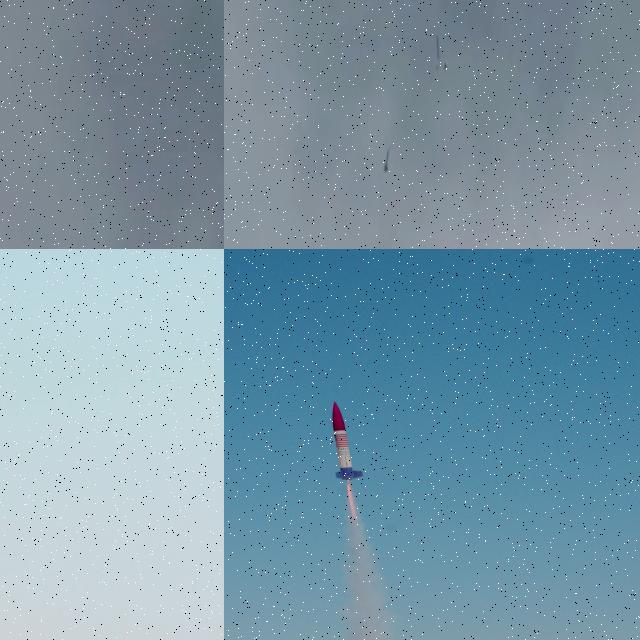Rocket: (332, 401, 364, 481), (383, 148, 390, 174)
